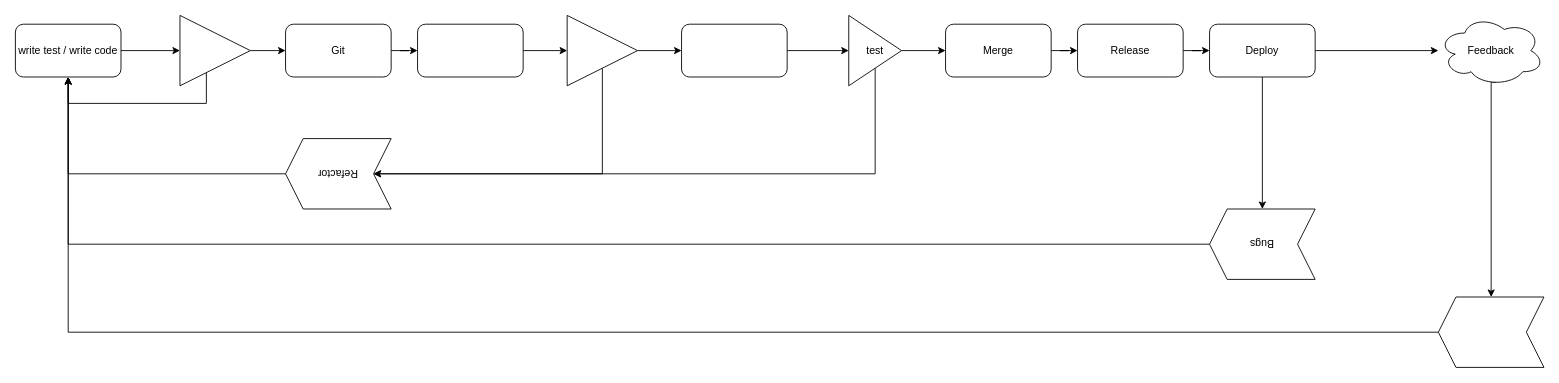
The diagram is 1559 pixels wide and 383 high, and some of its shapes have lost their labels. The box of each missing label's shape, as (x1, y1, x2, y2) in pixels:
Build: (681, 23, 787, 77)
New features: (1437, 296, 1544, 367)
Quality ok: (566, 15, 638, 86)
static code check (black, pylint): (417, 23, 523, 77)
Works?: (179, 15, 250, 86)
